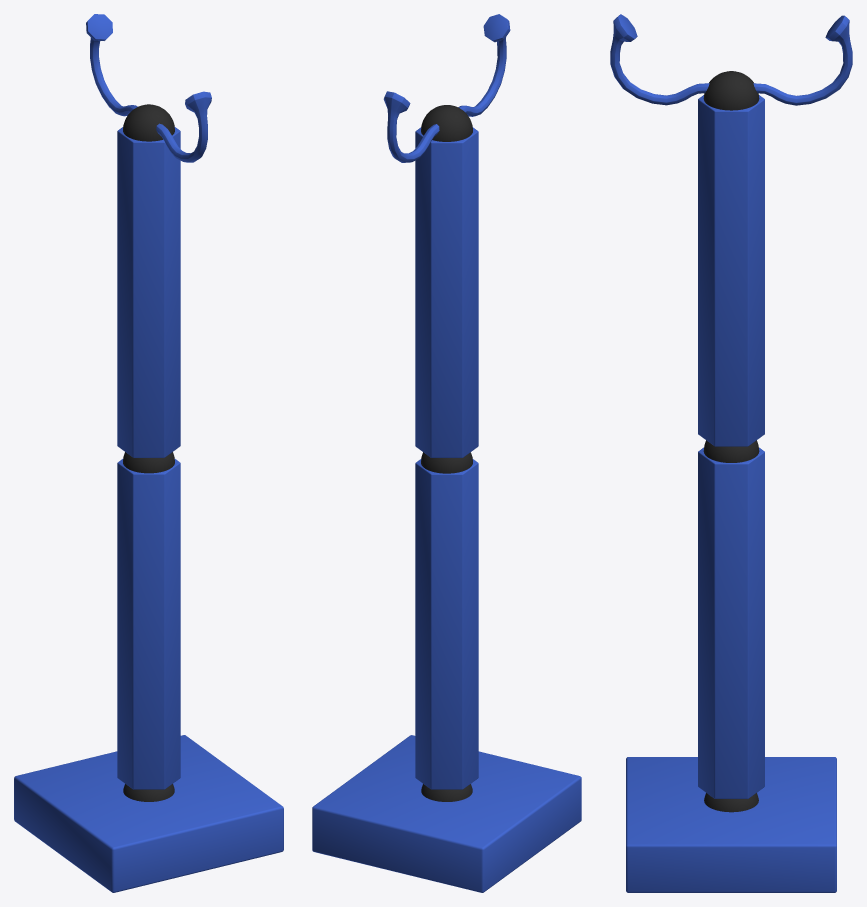
The model's file is robot_arm_color.fbx.
The picture shows the model from 3 angles, left to right: view 1: azimuth 30°, elevation 25°; view 2: azimuth 150°, elevation 25°; view 3: azimuth 270°, elevation 25°; orthographic projection. The views are drawn at different scales.
Visible parts, largest first — view 1: base, Cylinder.002, Cylinder, gripper r, gripper l, wrist, elbow, shoulder; view 2: base, Cylinder.002, Cylinder, gripper l, gripper r, wrist, elbow, shoulder; view 3: base, Cylinder, Cylinder.002, gripper l, gripper r, wrist, elbow, shoulder.
Boxes of the visible parts, x1=… form: base: x1=14, y1=735, x2=283, y2=892; Cylinder.002: x1=117, y1=459, x2=180, y2=789; Cylinder: x1=117, y1=127, x2=180, y2=457; gripper r: x1=86, y1=14, x2=137, y2=116; gripper l: x1=156, y1=91, x2=211, y2=162; wrist: x1=123, y1=104, x2=174, y2=141; elbow: x1=123, y1=452, x2=174, y2=473; shoulder: x1=123, y1=784, x2=174, y2=801; base: x1=312, y1=735, x2=581, y2=892; Cylinder.002: x1=415, y1=459, x2=478, y2=789; Cylinder: x1=415, y1=127, x2=478, y2=457; gripper l: x1=458, y1=14, x2=510, y2=116; gripper r: x1=383, y1=91, x2=439, y2=162; wrist: x1=421, y1=105, x2=472, y2=141; elbow: x1=421, y1=452, x2=472, y2=473; shoulder: x1=421, y1=784, x2=472, y2=801; base: x1=626, y1=757, x2=836, y2=892; Cylinder: x1=698, y1=95, x2=764, y2=446; Cylinder.002: x1=698, y1=447, x2=764, y2=798; gripper l: x1=610, y1=14, x2=709, y2=105; gripper r: x1=753, y1=15, x2=852, y2=105; wrist: x1=703, y1=71, x2=759, y2=110; elbow: x1=703, y1=440, x2=759, y2=462; shoulder: x1=704, y1=793, x2=758, y2=812.
Bounding box in the file's own units: 1.14 × 4.96 × 1.31.
